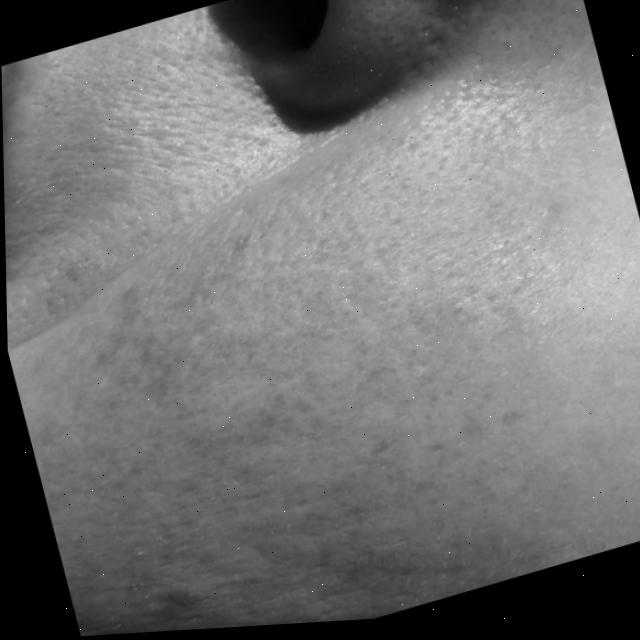Rosacea: (75, 157, 626, 636)
